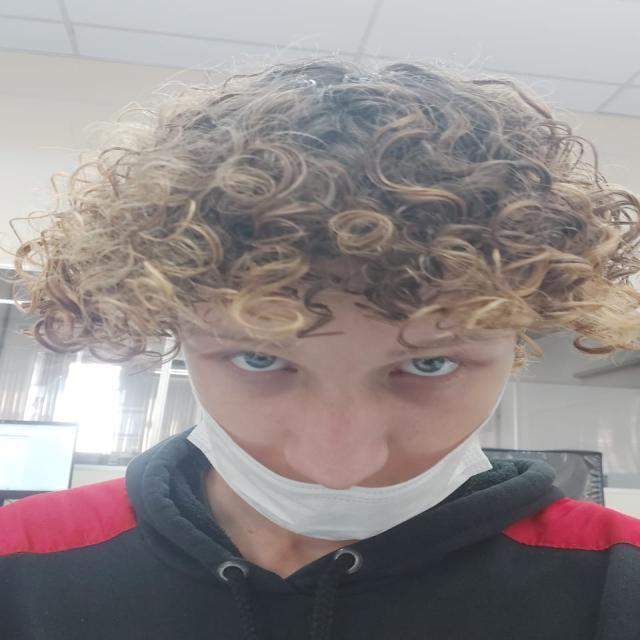hairnet: (190, 324, 518, 551)
